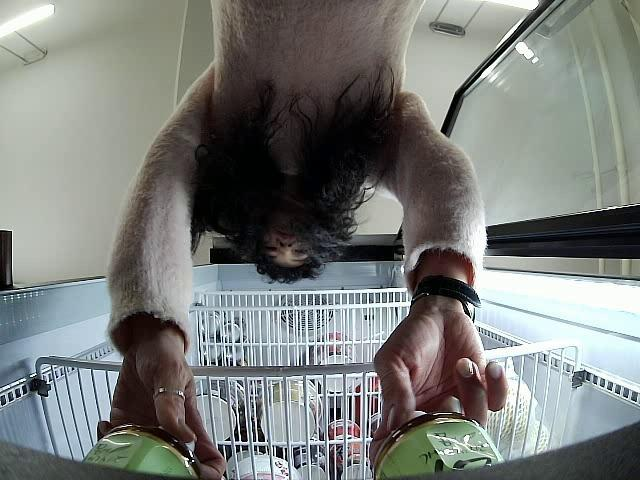19_17cha: (370, 411, 504, 480), (84, 422, 202, 480)
